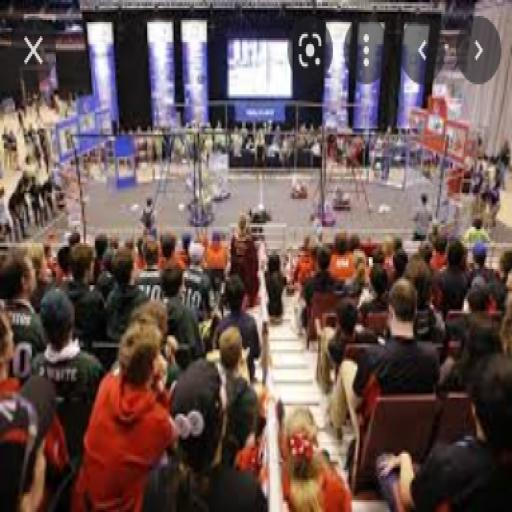robot: (186, 116, 216, 231), (248, 148, 272, 225), (207, 144, 230, 202), (313, 167, 335, 227), (332, 162, 350, 212)
